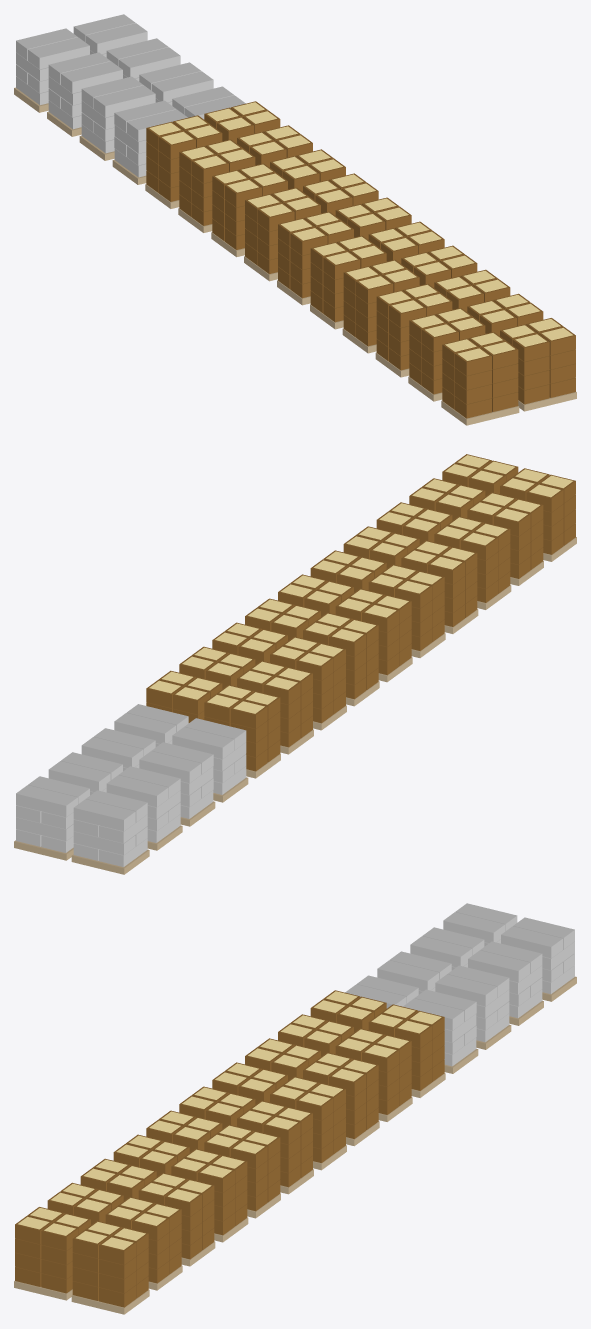
The model's file is SM_CargaViveres_Lleno_LOD0.fbx.
3 renders of one model, top to bottom at view 1: azimuth 30°, elevation 25°; view 2: azimuth 150°, elevation 25°; view 3: azimuth 330°, elevation 25°, orthographic.
Parts seen in each view (by area): view 1: SM_carga_vagon_v15_LOD0; view 2: SM_carga_vagon_v15_LOD0; view 3: SM_carga_vagon_v15_LOD0.
Boxes of the visible parts, x1,y1,x2,y2 form: SM_carga_vagon_v15_LOD0: (14, 14, 576, 425); SM_carga_vagon_v15_LOD0: (14, 454, 576, 874); SM_carga_vagon_v15_LOD0: (14, 903, 576, 1314).
Bounding box in the file's own units: 2.52 × 1.38 × 17.9.
